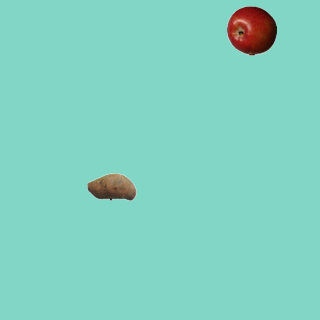Apple Braeburn: (226, 5, 276, 55)
Potato Sweet: (86, 161, 136, 211)
